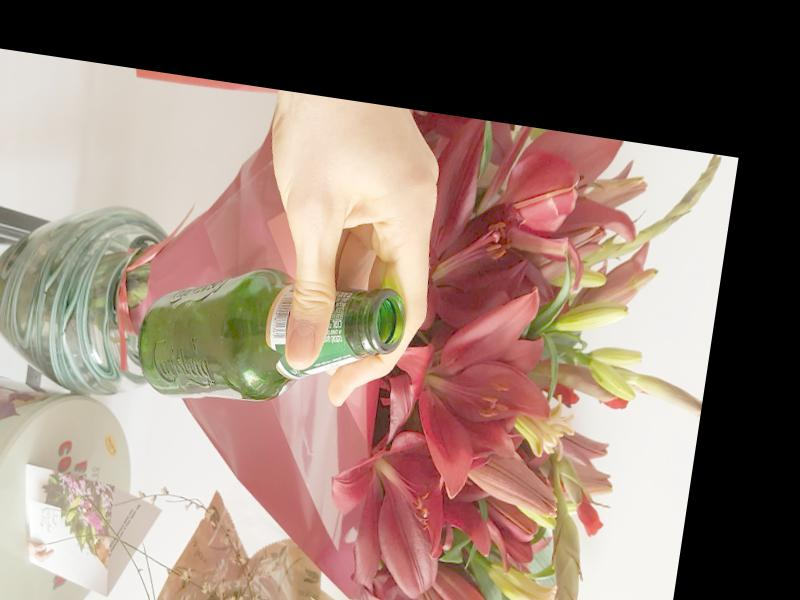Beer: (131, 251, 408, 429)
